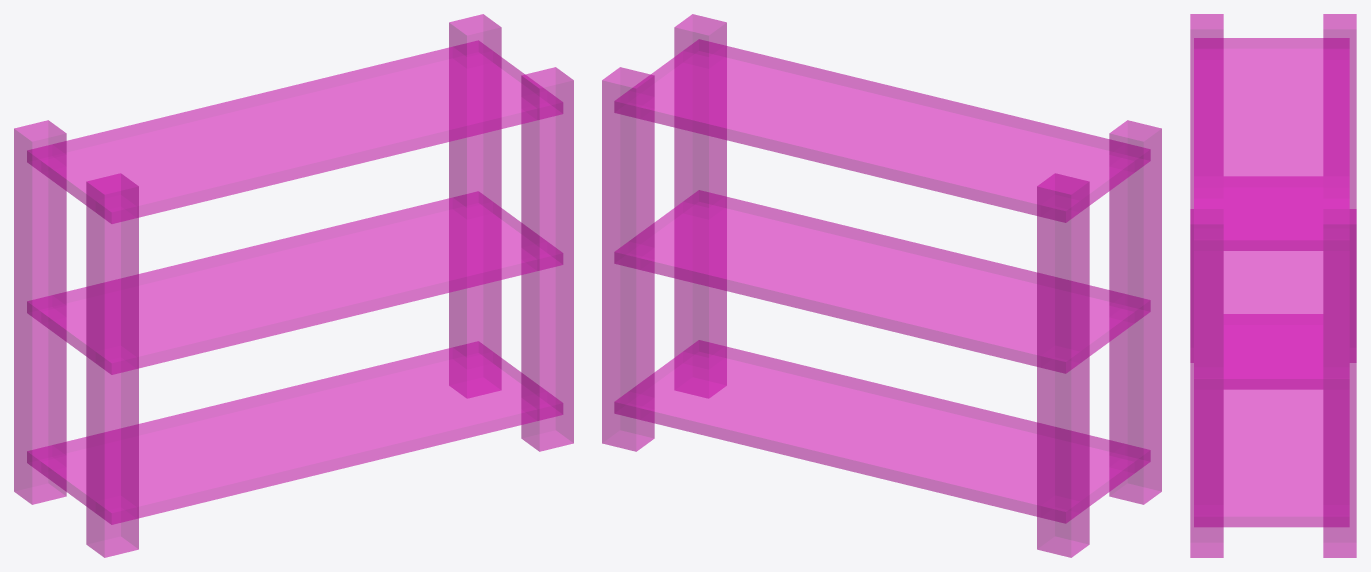
The model's file is SM_Prop_Vault_Shelf_01_Collision.fbx.
3 views of the same model, side by side, from view 1: azimuth 30°, elevation 25°; view 2: azimuth 150°, elevation 25°; view 3: azimuth 270°, elevation 25° (orthographic). The views are drawn at different scales.
Visible parts, largest first — view 1: SM_Prop_Vault_Shelf_01_Collision; view 2: SM_Prop_Vault_Shelf_01_Collision; view 3: SM_Prop_Vault_Shelf_01_Collision.
Boxes of the visible parts, <box> form: SM_Prop_Vault_Shelf_01_Collision: <box>14,14,573,557</box>; SM_Prop_Vault_Shelf_01_Collision: <box>602,14,1161,557</box>; SM_Prop_Vault_Shelf_01_Collision: <box>1190,14,1356,557</box>.
Size of the model in its own units: 254 by 188 by 84.95.
